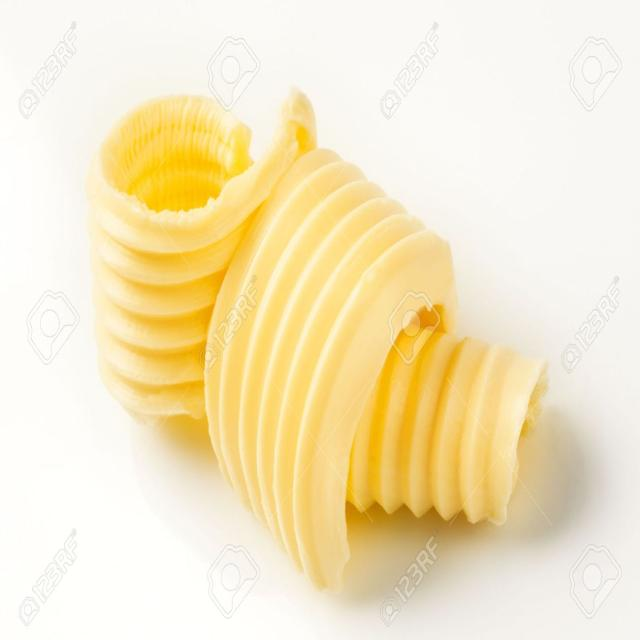Butter: (221, 162, 534, 598), (90, 100, 276, 432)
